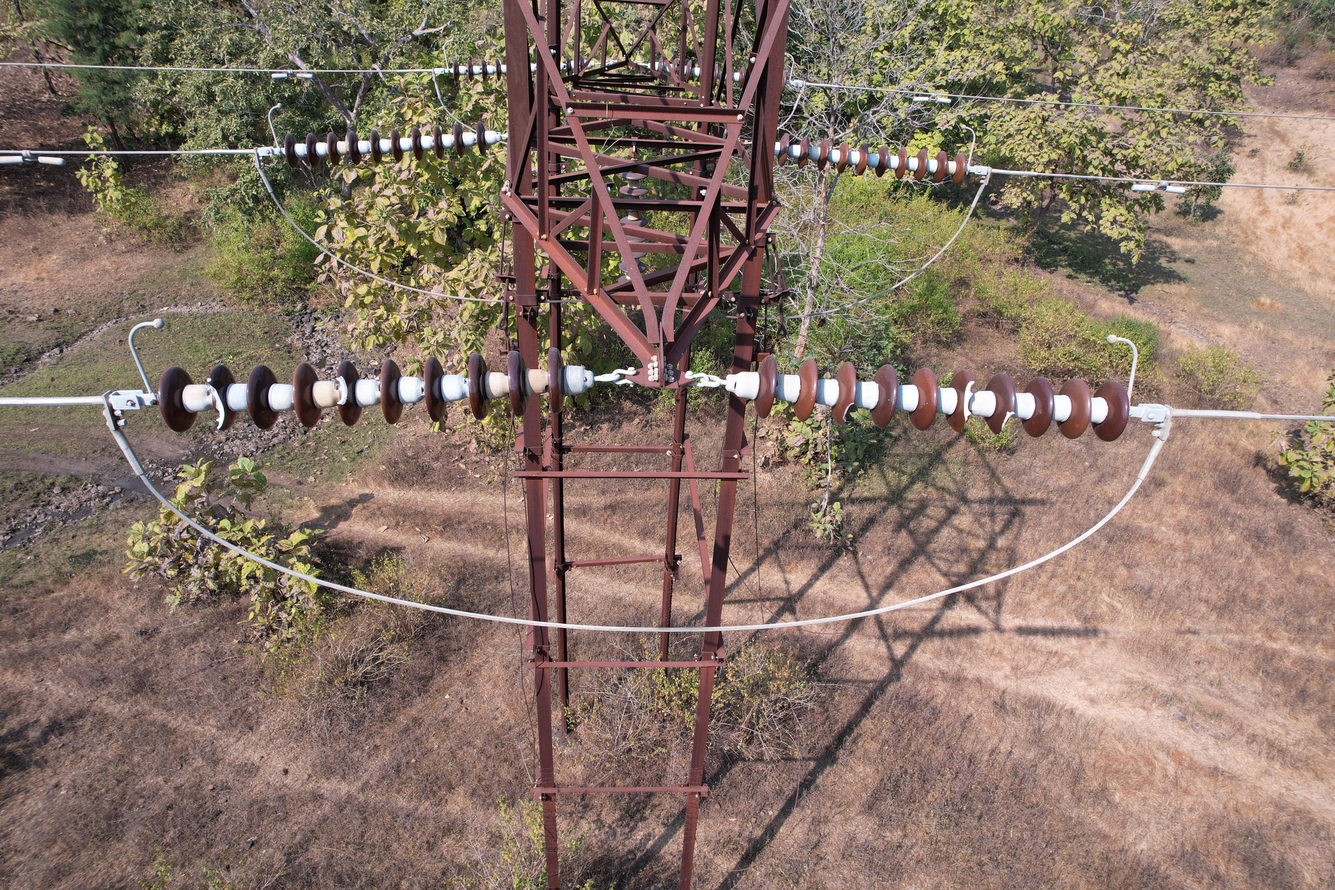broken_insulator: (316, 361, 369, 420), (195, 368, 235, 439), (945, 369, 977, 443), (988, 400, 1018, 439), (832, 393, 859, 430)
